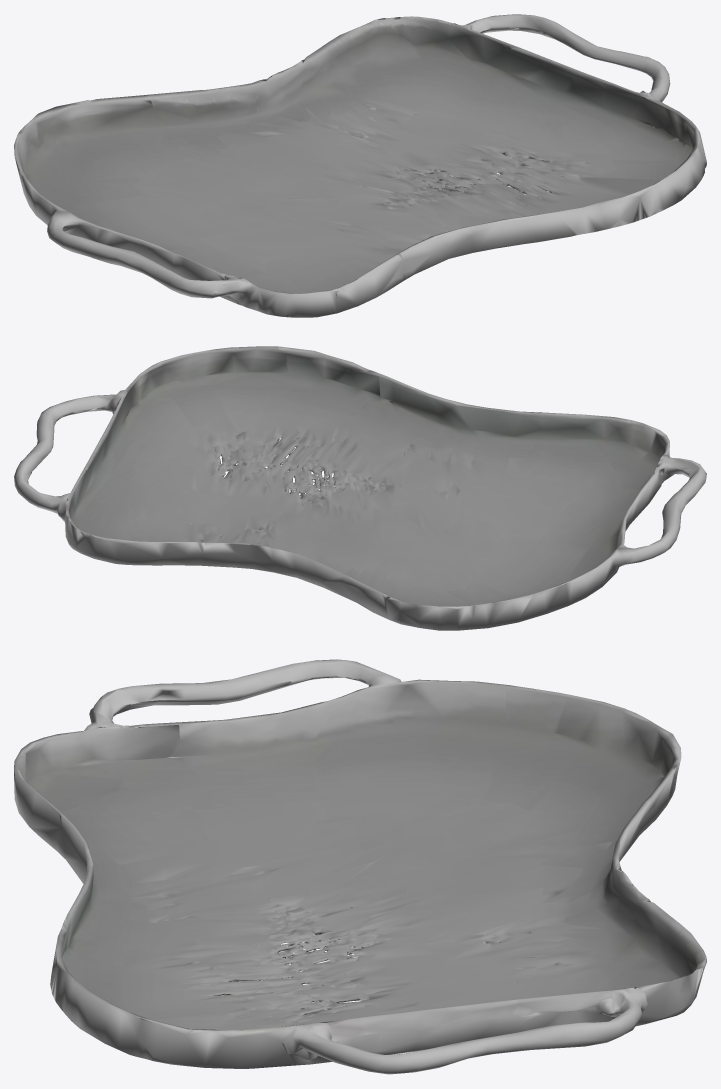
Rendered from 09_2_6dot_st_tray-opt-v54.glb.
3 views of the same model, one above another, from view 1: azimuth 30°, elevation 25°; view 2: azimuth 150°, elevation 25°; view 3: azimuth 270°, elevation 25° (orthographic). The views are drawn at different scales.
Visible parts, largest first — view 1: tripo_material_9759b17c-6184-4de0-97d3-91e39bc3678b; view 2: tripo_material_9759b17c-6184-4de0-97d3-91e39bc3678b; view 3: tripo_material_9759b17c-6184-4de0-97d3-91e39bc3678b.
Boxes of the visible parts, x1,y1,x2,y2 form: tripo_material_9759b17c-6184-4de0-97d3-91e39bc3678b: (14,14,706,317); tripo_material_9759b17c-6184-4de0-97d3-91e39bc3678b: (14,346,706,630); tripo_material_9759b17c-6184-4de0-97d3-91e39bc3678b: (14,659,706,1074).
Size of the model in its own units: 0.5712 by 0.04 by 0.4148.
1 material, 1 textured.
